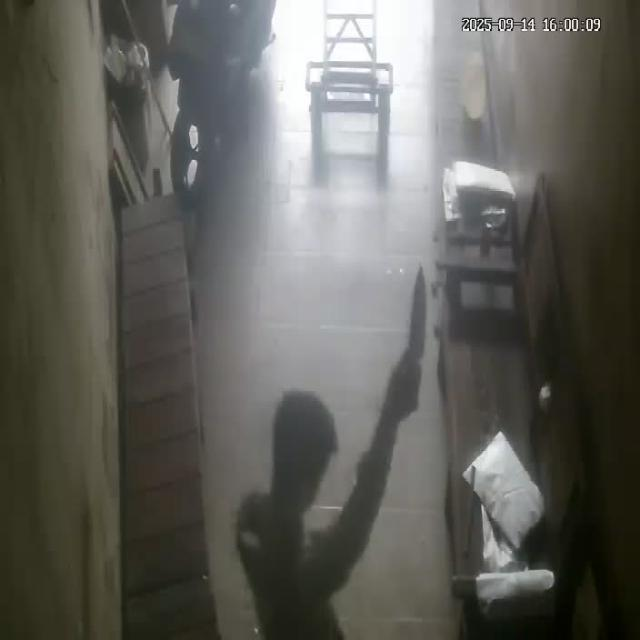senjata_tajam: (406, 263, 428, 359)
